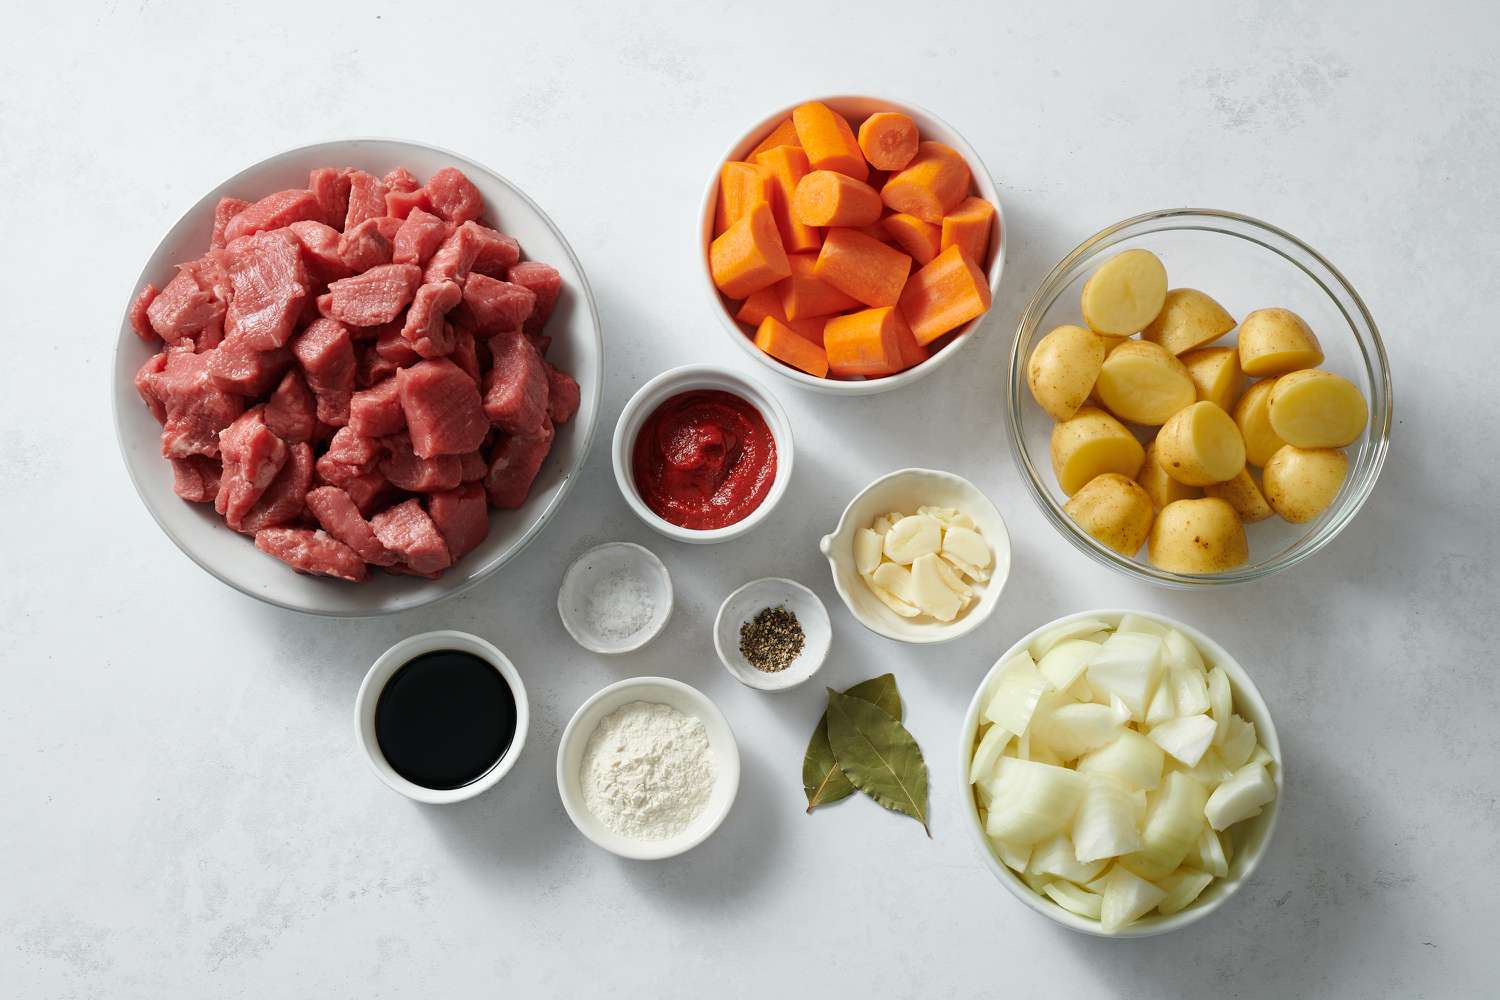Beef: (100, 148, 600, 626)
Potato: (1089, 329, 1203, 443), (1042, 394, 1157, 504), (1062, 238, 1179, 346), (1133, 395, 1261, 490), (1133, 492, 1258, 589), (1044, 463, 1163, 564), (1258, 360, 1378, 459), (1253, 426, 1362, 533), (1013, 320, 1118, 427), (1222, 299, 1347, 378), (1136, 281, 1239, 352)
Spinach: (817, 681, 950, 853)
